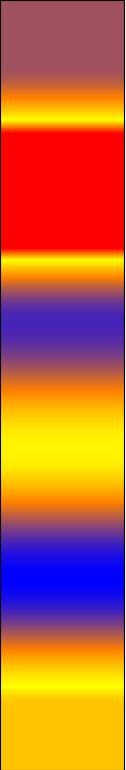Thermal Runaway: (6, 99, 119, 274), (10, 396, 118, 514), (6, 661, 118, 766)
critical: (6, 5, 119, 92), (7, 357, 120, 390), (9, 628, 115, 650), (6, 285, 118, 298)
safe: (7, 522, 112, 623), (9, 310, 119, 348)
